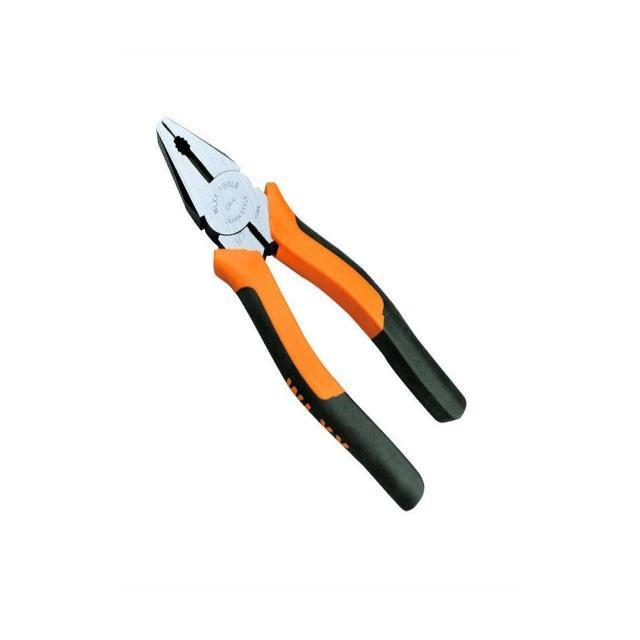pliers: (150, 108, 471, 519)
